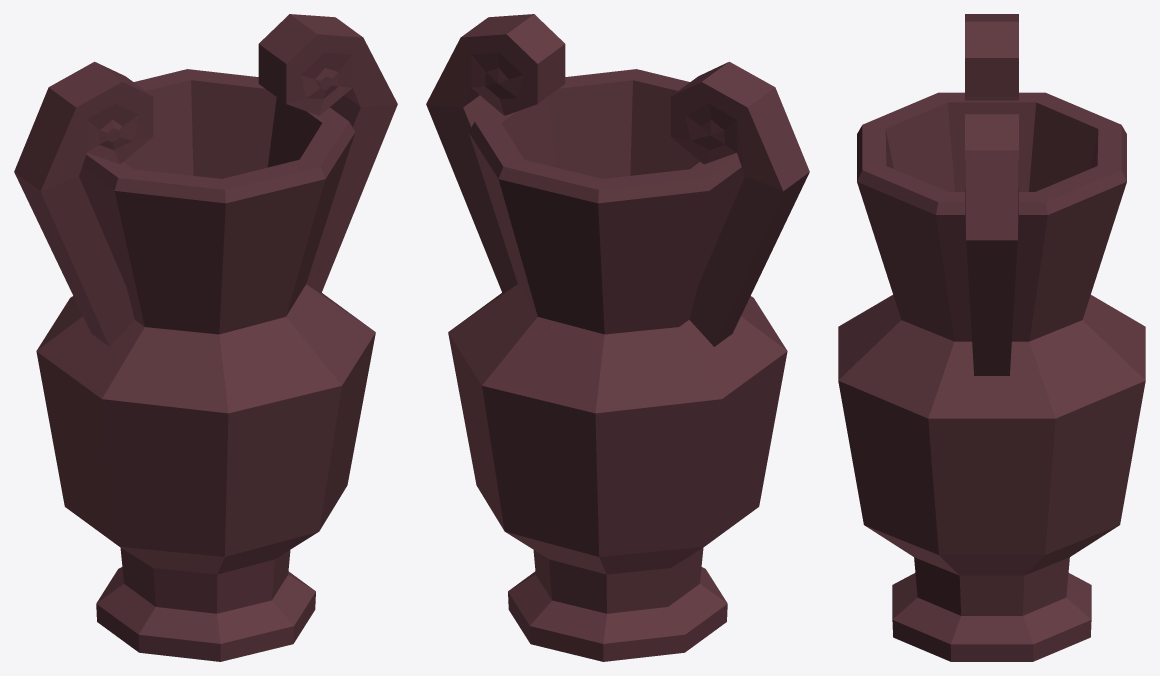
Rendered from SM_Vase_Krater_Empire.fbx.
3 renders of one model, left to right at view 1: azimuth 30°, elevation 25°; view 2: azimuth 150°, elevation 25°; view 3: azimuth 270°, elevation 25°, orthographic. The views are drawn at different scales.
Visible parts, largest first — view 1: SM_Vase_Krater_Empire; view 2: SM_Vase_Krater_Empire; view 3: SM_Vase_Krater_Empire.
Part boxes in pixels (x1,y1,x2,y2): SM_Vase_Krater_Empire: (14, 14, 397, 661); SM_Vase_Krater_Empire: (426, 14, 809, 661); SM_Vase_Krater_Empire: (838, 14, 1145, 661).
Bounding box in the file's own units: 0.6398 × 0.9718 × 0.4906.
